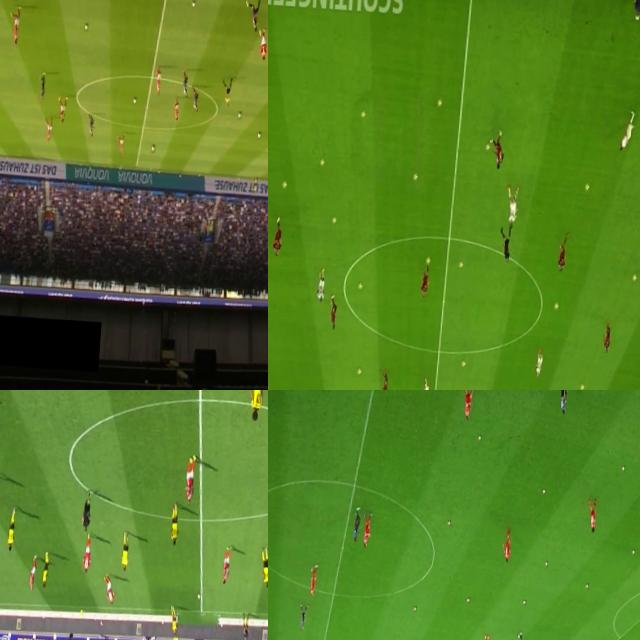ball: (195, 588, 202, 604), (410, 170, 418, 180), (318, 157, 326, 166), (437, 96, 442, 106), (360, 108, 364, 120), (458, 259, 462, 270), (332, 214, 336, 224), (632, 274, 637, 282), (620, 464, 625, 472), (191, 0, 196, 7), (579, 383, 584, 390), (462, 360, 466, 368), (584, 184, 588, 192), (630, 548, 634, 556), (484, 144, 488, 151), (554, 304, 558, 310), (584, 584, 588, 590), (446, 519, 449, 527), (466, 596, 470, 602), (358, 284, 361, 291), (256, 133, 260, 138), (84, 23, 87, 29), (134, 96, 136, 104), (356, 370, 360, 374), (543, 562, 547, 566), (477, 437, 480, 442), (238, 111, 240, 118), (152, 146, 154, 152), (522, 599, 524, 605), (413, 606, 415, 612), (542, 491, 544, 494)
player: (182, 455, 200, 508), (245, 390, 268, 424), (618, 108, 634, 149), (220, 544, 235, 586), (81, 530, 95, 575), (119, 534, 133, 577), (4, 510, 19, 550), (503, 188, 518, 226), (169, 505, 182, 547), (38, 552, 52, 590), (8, 4, 21, 44), (100, 575, 116, 607), (490, 132, 504, 168), (245, 0, 261, 31), (272, 217, 283, 257), (586, 499, 598, 534), (327, 291, 338, 329), (459, 390, 472, 422), (362, 509, 372, 549), (257, 28, 268, 61), (557, 234, 567, 270), (168, 608, 180, 638), (260, 544, 268, 589), (502, 526, 512, 562), (315, 268, 325, 302), (554, 390, 569, 412), (58, 92, 68, 122), (28, 554, 36, 590), (352, 505, 360, 541), (310, 564, 318, 600), (39, 71, 47, 101), (298, 601, 306, 630), (602, 323, 610, 351), (421, 264, 428, 296), (116, 132, 125, 154), (535, 351, 543, 375), (155, 68, 162, 94), (192, 90, 200, 112), (182, 71, 189, 95), (45, 118, 52, 140), (380, 374, 388, 390), (88, 114, 94, 134), (174, 102, 179, 122), (422, 378, 430, 390), (515, 633, 523, 640), (482, 634, 490, 640)
